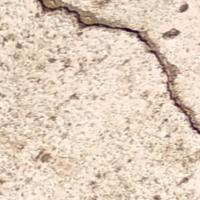crack: (36, 0, 199, 145)
